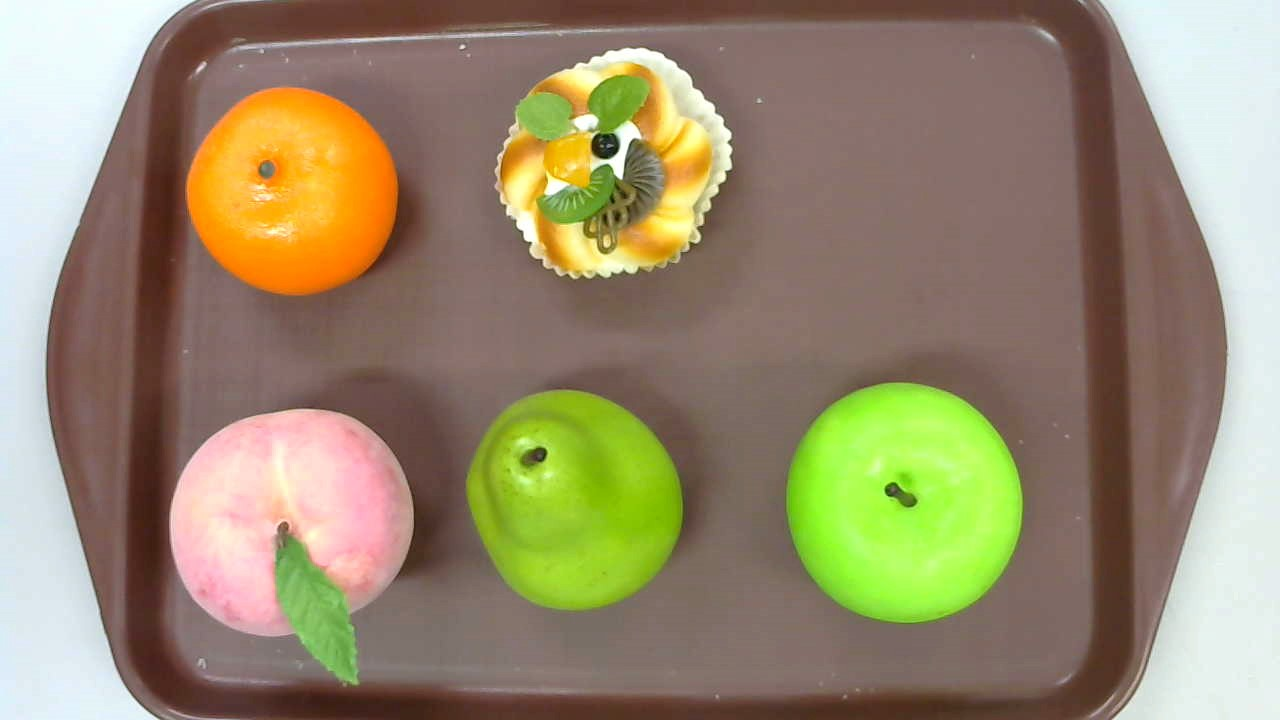fruit tart: (493, 48, 734, 279)
green apple: (785, 382, 1024, 624)
green pear: (465, 388, 684, 610)
orange: (185, 85, 397, 298)
peach: (168, 409, 413, 688)
